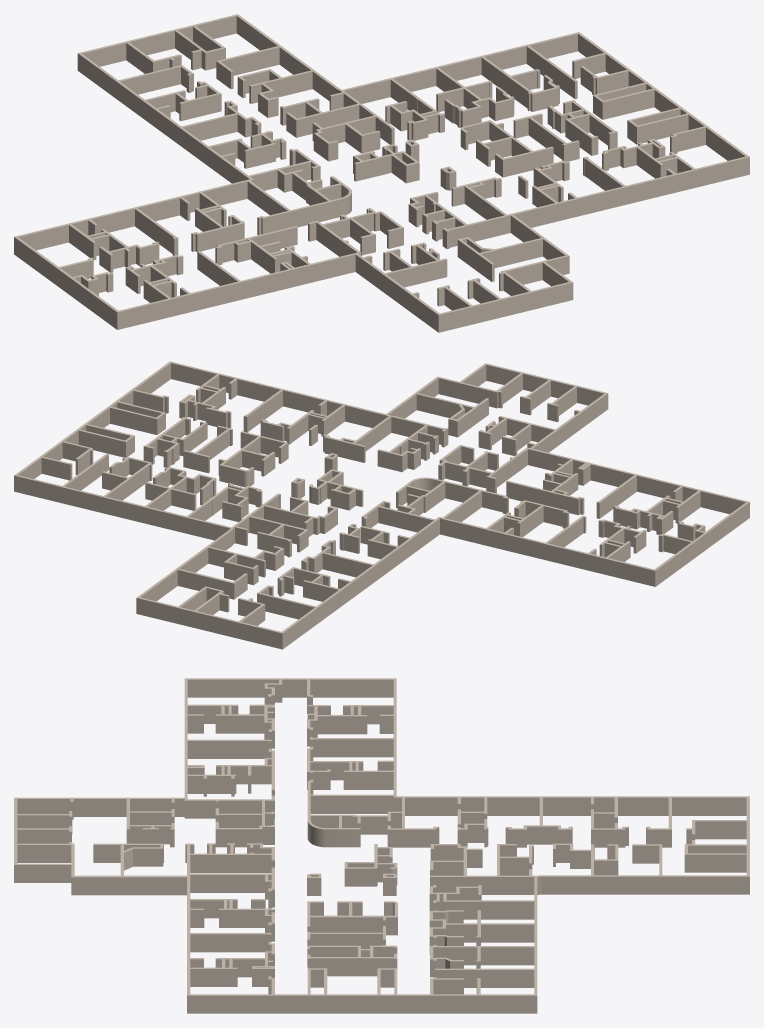
Rendered from FA3_walls_vis.glb.
3 renders of one model, top to bottom at view 1: azimuth 30°, elevation 25°; view 2: azimuth 150°, elevation 25°; view 3: azimuth 270°, elevation 25°, orthographic. The views are drawn at different scales.
Parts seen in each view (by area): view 1: walls_visual_FA3; view 2: walls_visual_FA3; view 3: walls_visual_FA3.
Boxes of the visible parts, x1=… form: walls_visual_FA3: x1=14, y1=14, x2=749, y2=332; walls_visual_FA3: x1=14, y1=361, x2=749, y2=649; walls_visual_FA3: x1=14, y1=678, x2=749, y2=1013.
Size of the model in its own units: 56.68 by 1.5 by 55.57.
